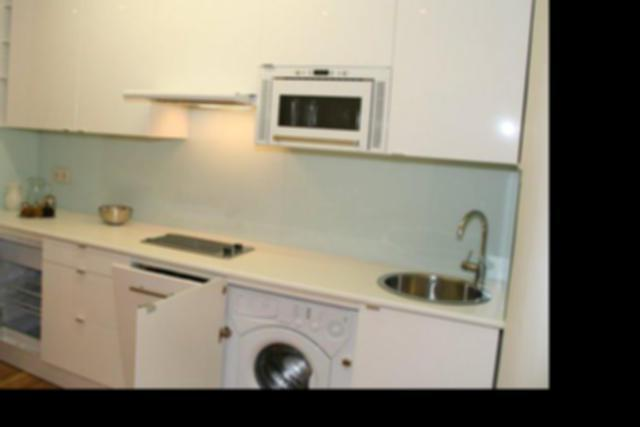Electrodomestico: (228, 274, 353, 388), (261, 70, 391, 151), (0, 224, 42, 361)
Lavaplatos: (387, 204, 499, 310)
